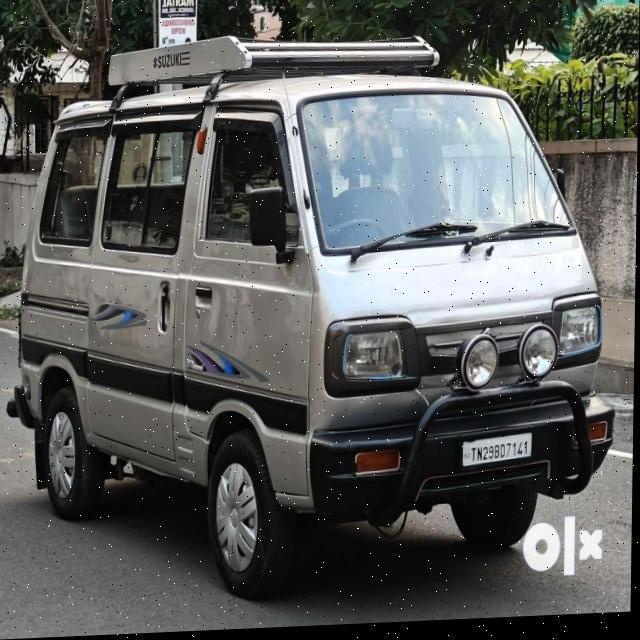Ambulance: (3, 18, 624, 616), (0, 298, 634, 637)
